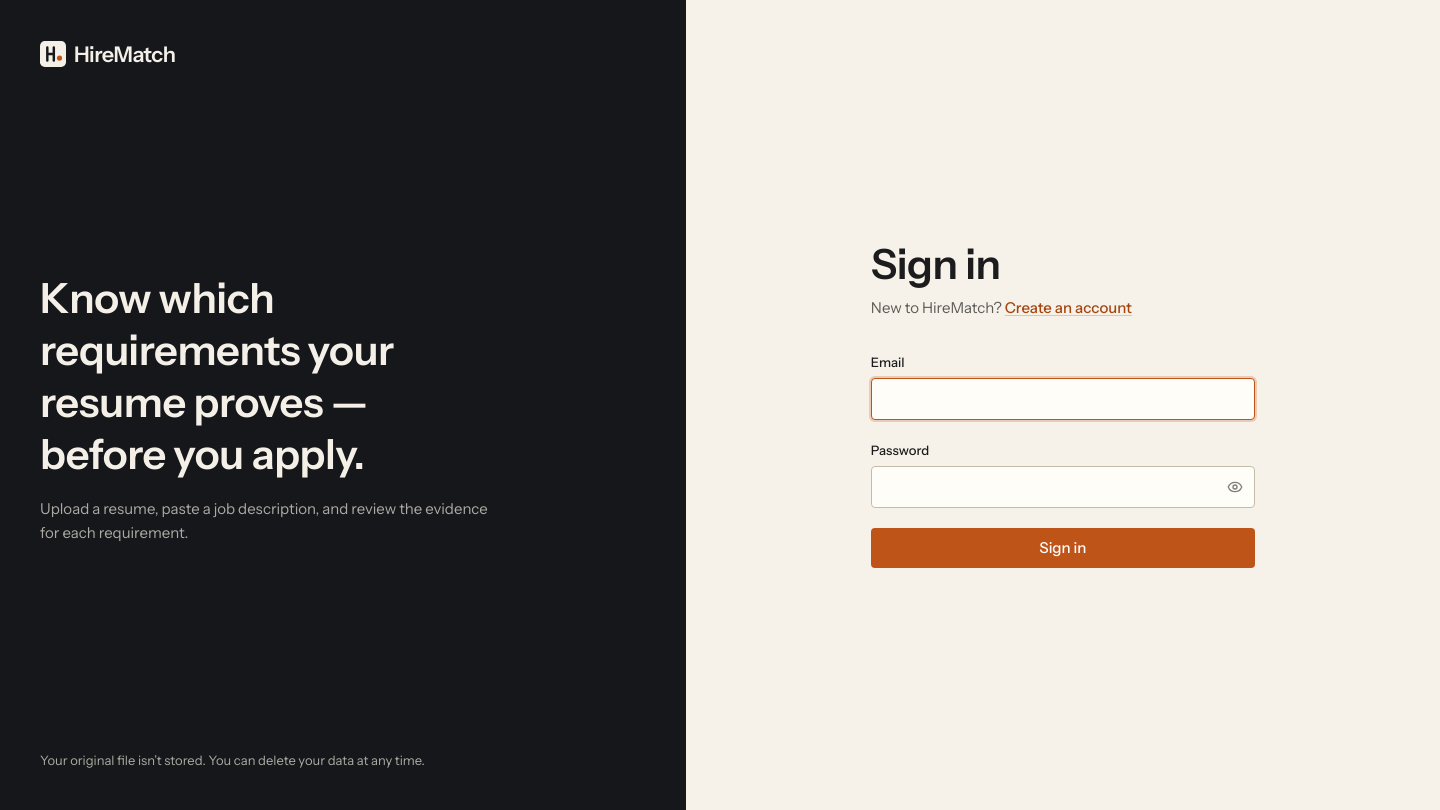
Test: Sign in › shows the server error and allows another attempt
In the field labelled "Email": [1063, 399] box x1=871 y1=378 x2=1255 y2=420, type "someone@example.com"
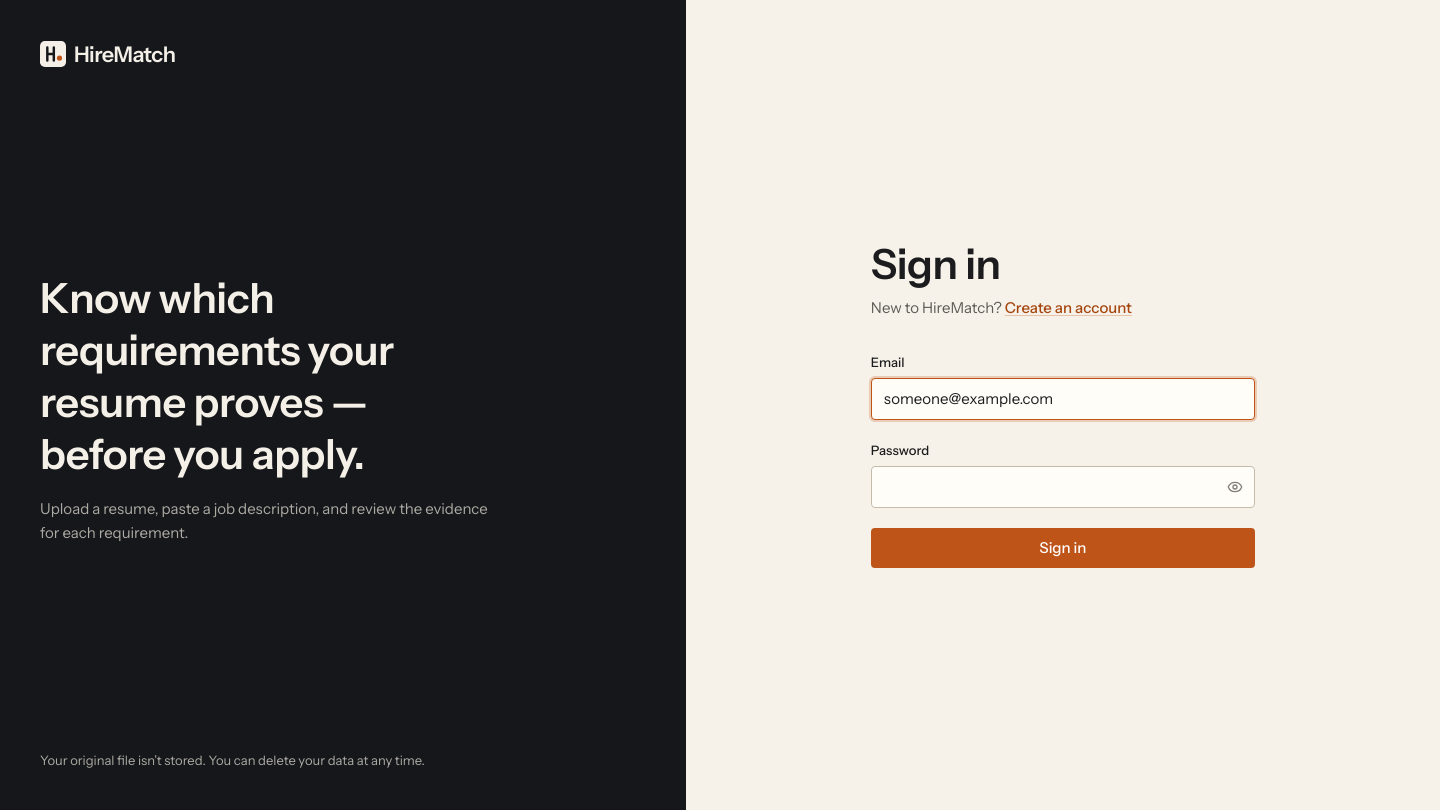
In the password field labelled "Password": [1063, 487] box x1=871 y1=466 x2=1255 y2=508, type "long enough password"
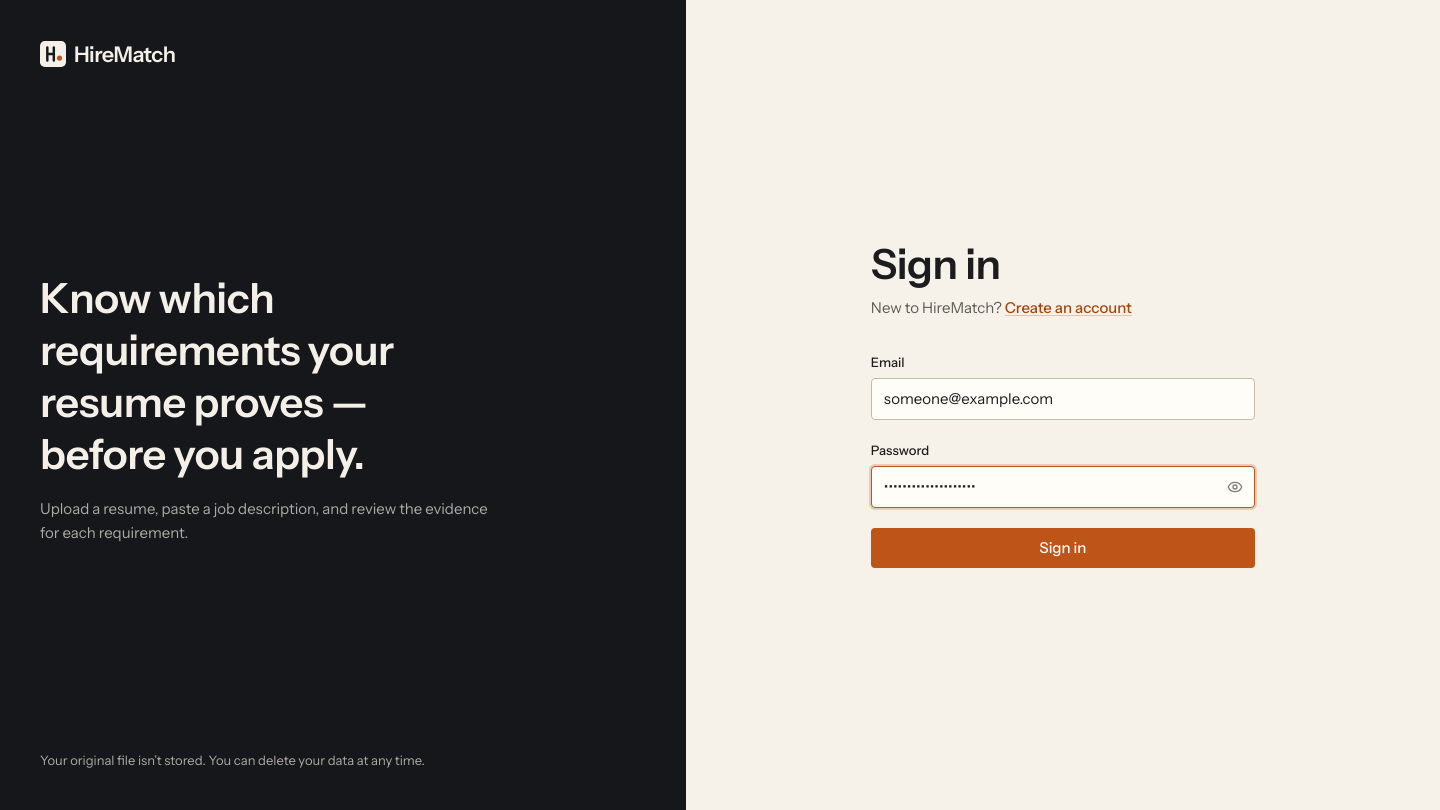
Click the button "Sign in": [1063, 548] box x1=871 y1=528 x2=1255 y2=568
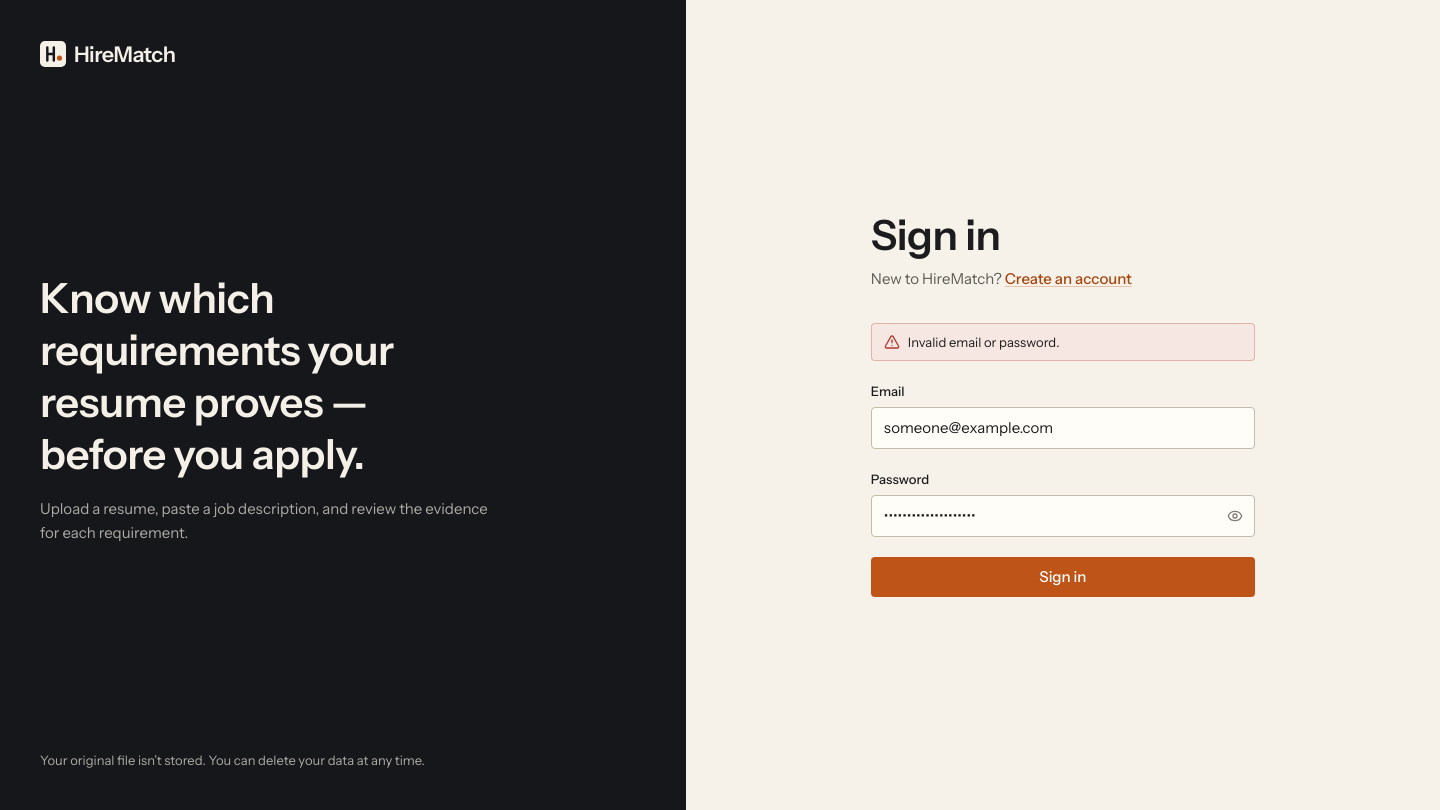
Expected: the button "Sign in" is enabled, x1=871 y1=557 x2=1255 y2=597
Now the text "Invalid email or password." is shown, box x1=871 y1=323 x2=1255 y2=361
